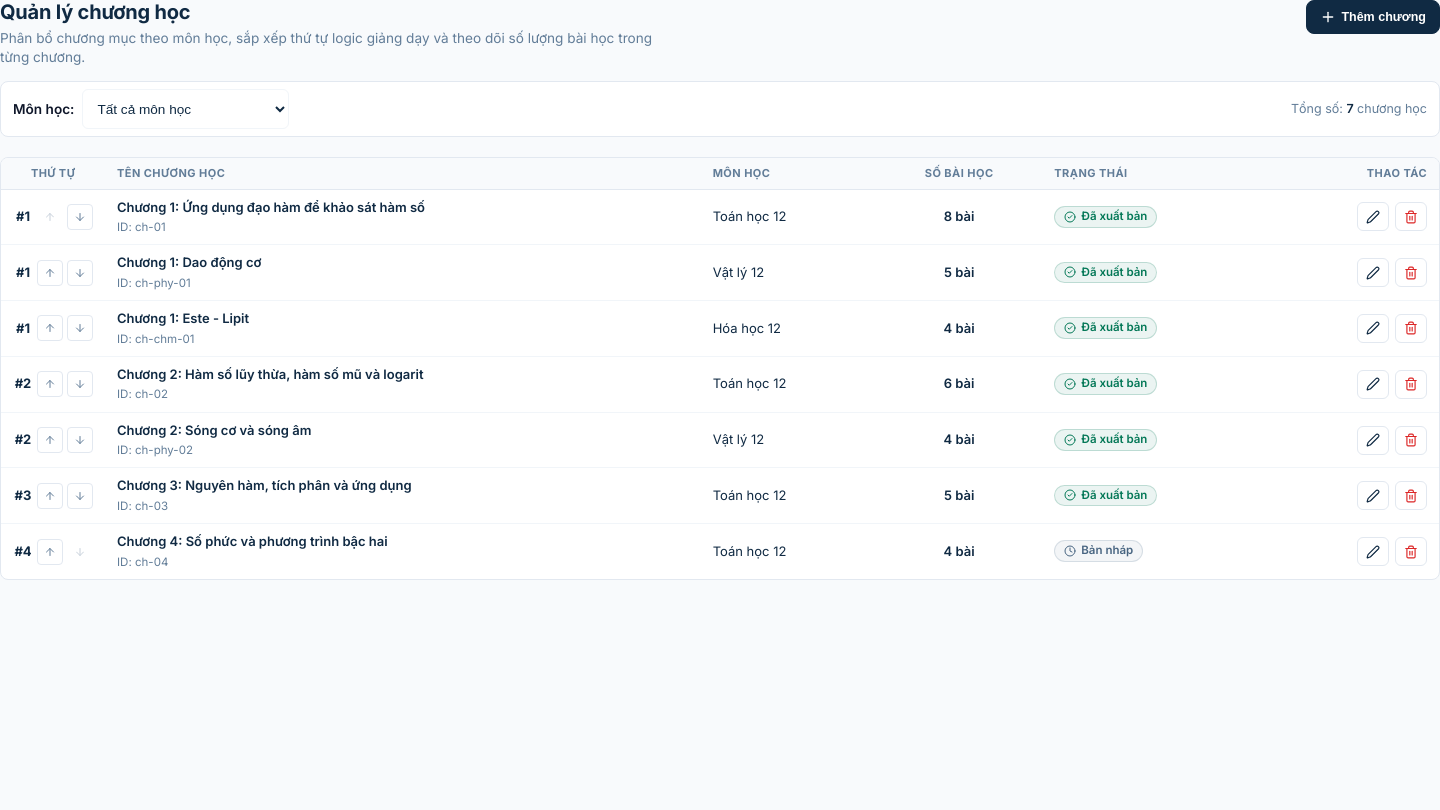
it: Admin Workspace V3 — Education Management Suite › 3. Quản lý chương (AdminChaptersPage) › creates a new chapter demo via dialog
Expected: the text "Chương 1: Ứng dụng đạo hàm để khảo sát hàm số" is shown, [117,199,425,215]
Step 1. Click the button named "Thêm chương học" → [1373, 17], box [1306,0,1439,34]
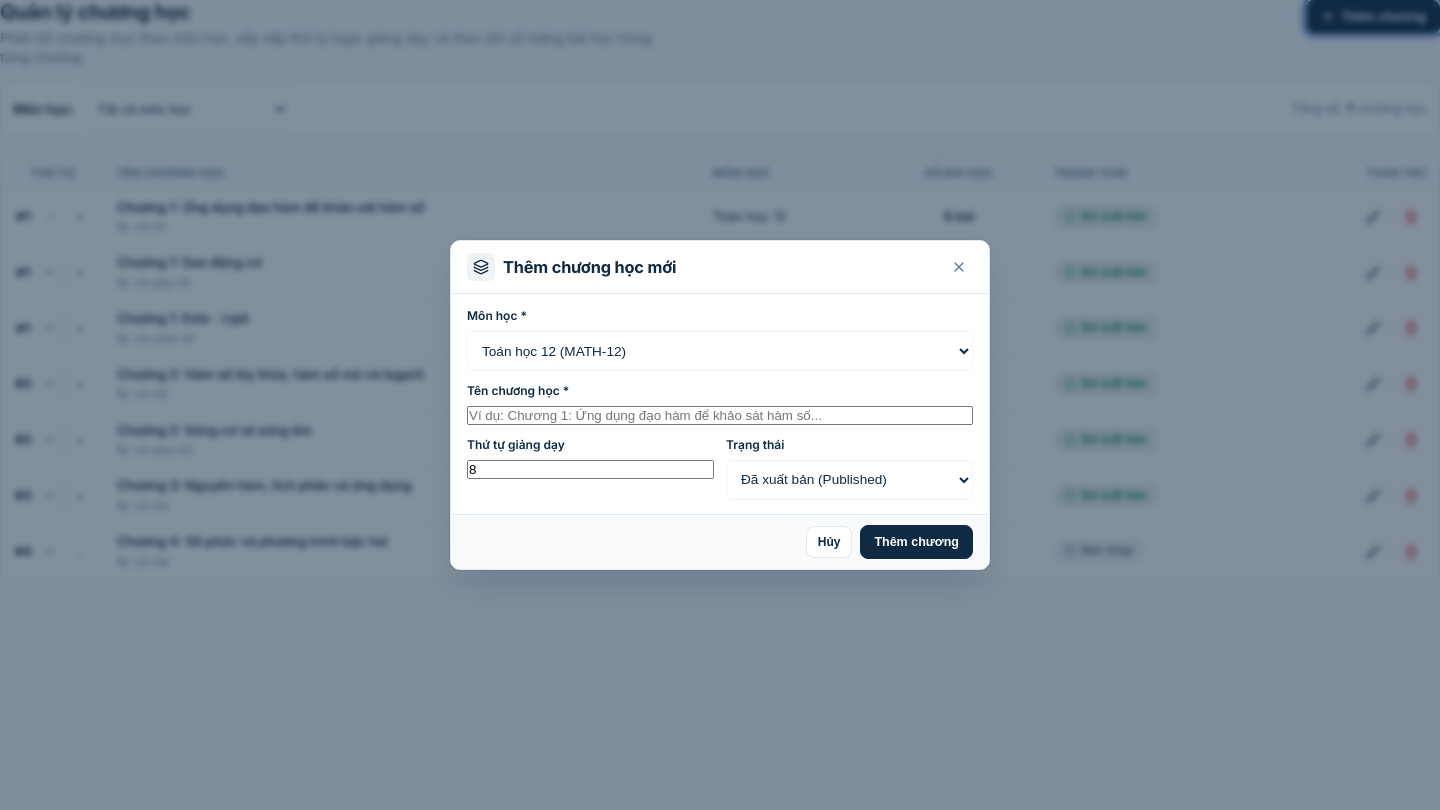
Now the heading "Thêm chương học mới" is shown, box [503,257,676,278]
Step 2. Type "Chương 5: Hình học giải tích" into the field labelled "Tên chương học *" → [720, 415], box [467,406,973,425]
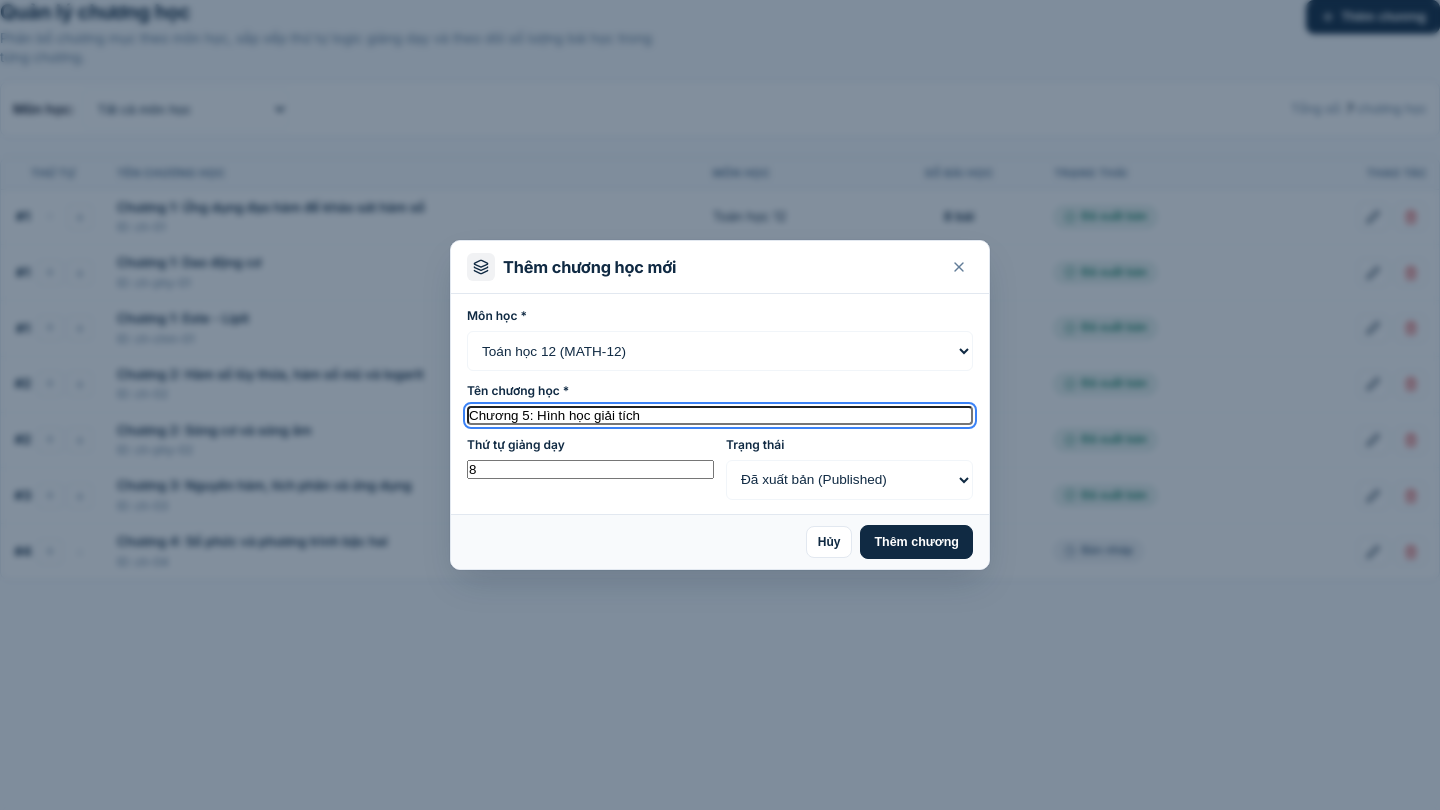
Step 3. Click the button "Thêm chương" → [917, 542], box [860,525,973,559]
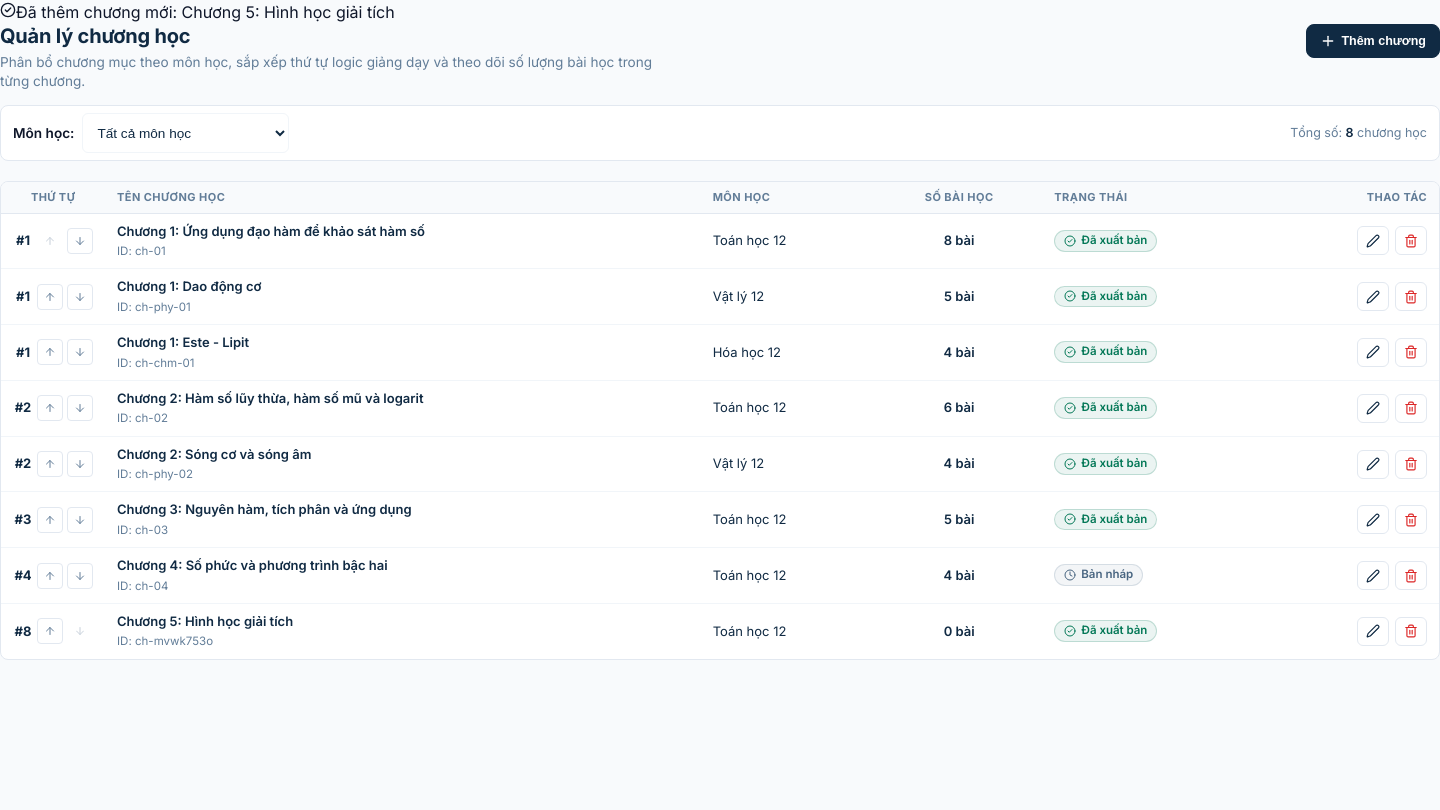
Now the text "Đã thêm chương mới: Chương 5: Hình học giải tích" is shown, box [16,2,395,22]
